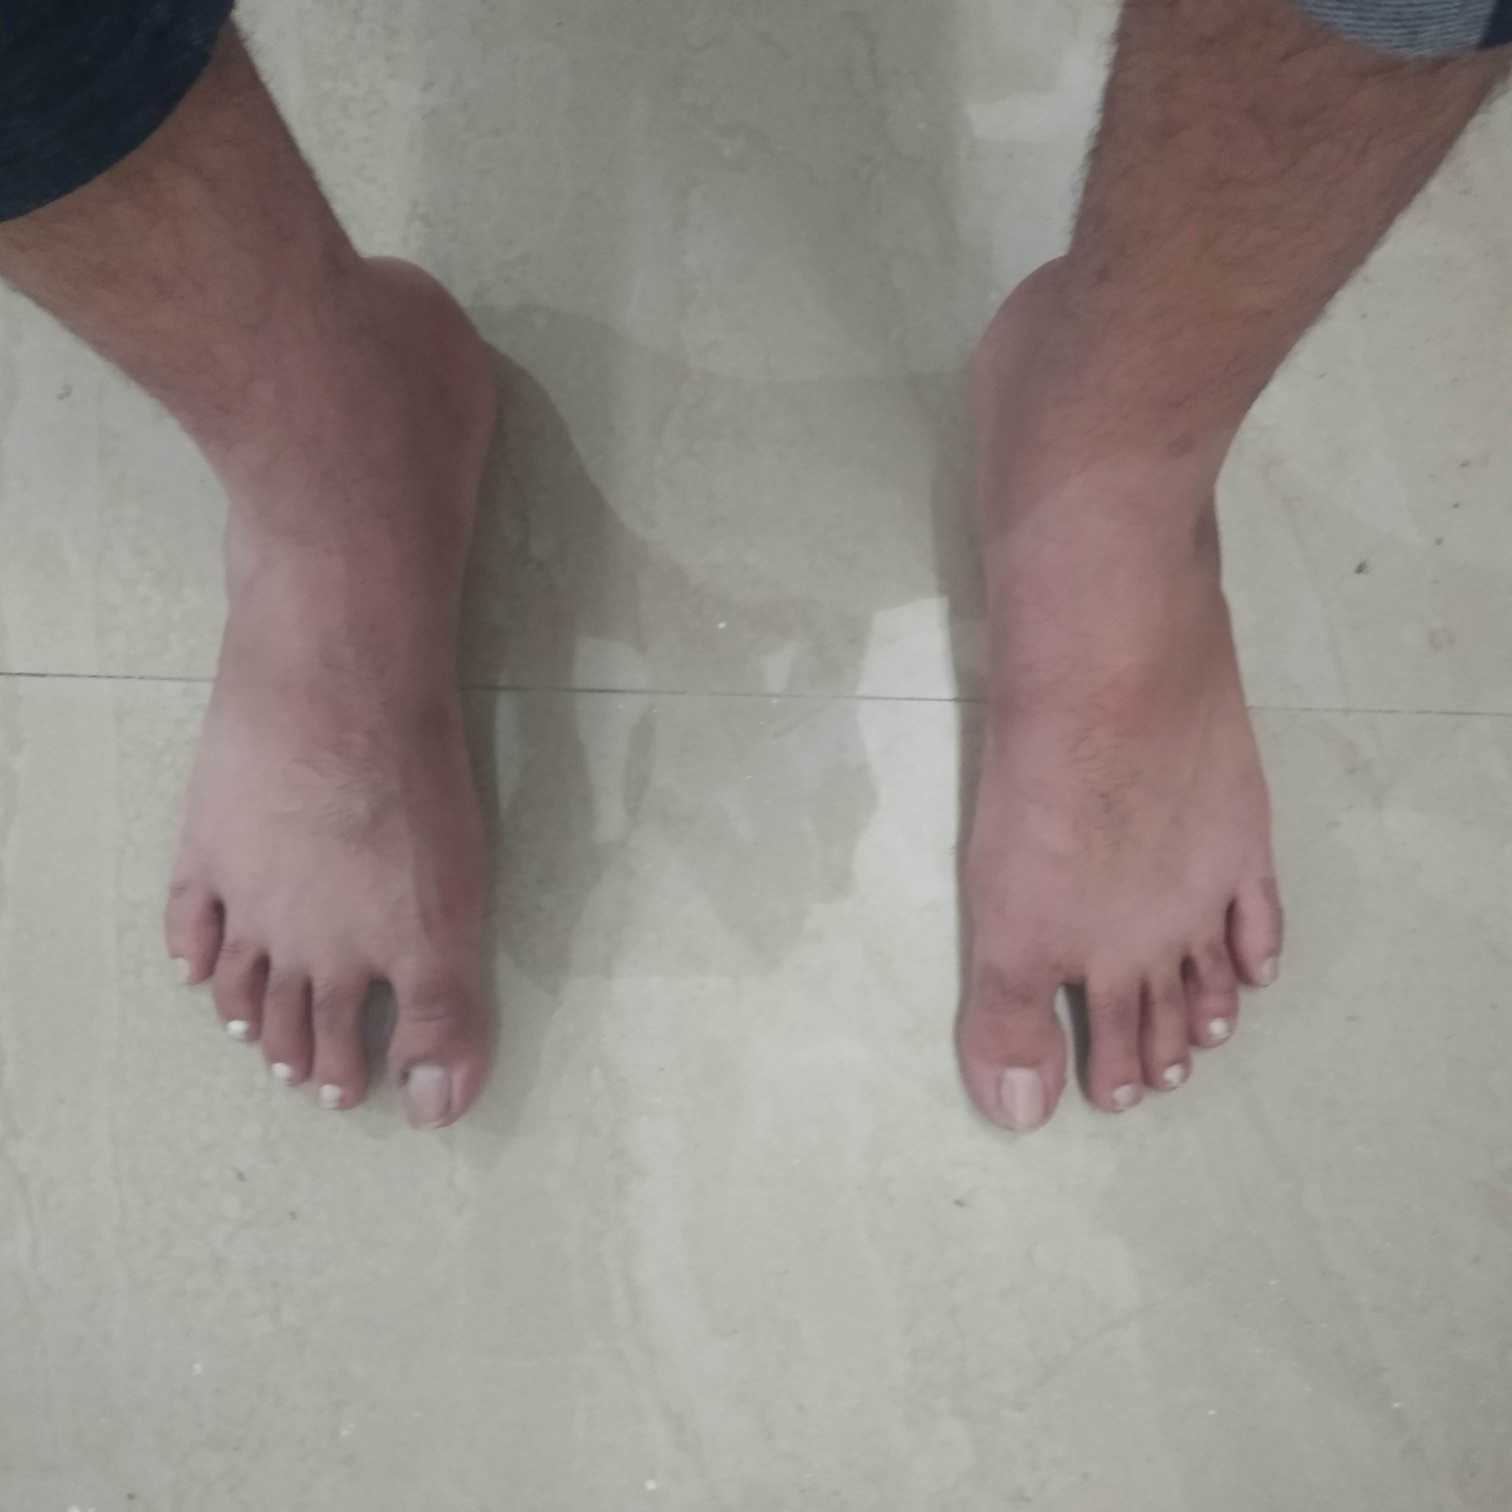foot: (948, 515, 1295, 1144), (158, 512, 503, 1138)
